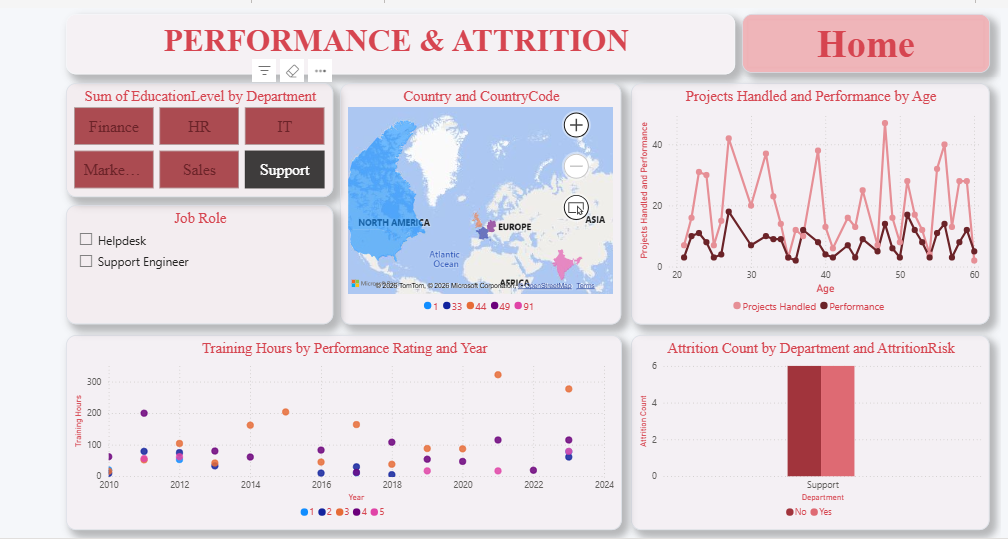

What the dashboard file says about the page in this screenshot:
{"tool":"powerbi","page":{"name":"Department","canvas":[1280,720],"ordinal":1},"visuals":[{"type":"textbox","box":[10.2,8.8,908.8,82],"z":0},{"type":"advancedSlicerVisual","fields":{"Values":["employee_performance_pro.Department"]},"box":[10.2,102.4,362.9,155.1],"z":2000},{"type":"lineChart","fields":{"Y":["Sum(employee_performance_pro.ProjectsHandled)","Sum(employee_performance_pro.PerformanceRating)"],"Category":["employee_performance_pro.Age"]},"box":[778.5,102.4,487.3,327.8],"z":3000},{"type":"clusteredColumnChart","fields":{"Y":["employee_performance_pro.Attrition Count"],"Series":["employee_performance_pro.AttritionRisk"],"Category":["employee_performance_pro.Department"]},"box":[778.5,444.9,487.3,264.9],"z":4000},{"type":"filledMap","fields":{"Category":["employee_performance_pro.Country"],"Series":["employee_performance_pro.CountryCode"]},"box":[383.4,102.4,382,327.8],"z":5000},{"type":"scatterChart","fields":{"Y":["Sum(employee_performance_pro.TrainingHours)"],"X":["employee_performance_pro.JoiningDate.Variation.Date Hierarchy.Year","employee_performance_pro.JoiningDate.Variation.Date Hierarchy.Quarter","employee_performance_pro.JoiningDate.Variation.Date Hierarchy.Month","employee_performance_pro.JoiningDate.Variation.Date Hierarchy.Day"],"Series":["employee_performance_pro.PerformanceRating"]},"box":[10.2,444.9,755.1,264.9],"z":6000},{"type":"slicer","title":"Job Role","fields":{"Values":["employee_performance_pro.JobRole"]},"box":[10.2,267.8,362.9,162.4],"z":7000},{"type":"actionButton","box":[929.3,8.8,336.6,80.5],"z":7001}]}

Visuals, with their boxes on the page's 1280x720 design canvas (x1, y1, x2, y2). These are canvas units, not pixel positions in the 1008x539 screenshot, which may show the page scaled, cropped or inside an application window:
textbox: 10:9:919:91
advancedSlicerVisual - employee_performance_pro.Department: 10:102:373:258
lineChart - Sum(employee_performance_pro.ProjectsHandled) x Sum(employee_performance_pro.PerformanceRating): 778:102:1266:430
clusteredColumnChart - employee_performance_pro.Attrition Count x employee_performance_pro.AttritionRisk: 778:445:1266:710
filledMap - employee_performance_pro.Country x employee_performance_pro.CountryCode: 383:102:765:430
scatterChart - Sum(employee_performance_pro.TrainingHours) x employee_performance_pro.JoiningDate.Variation.Date Hierarchy.Year: 10:445:765:710
"Job Role" slicer: 10:268:373:430
actionButton: 929:9:1266:89
